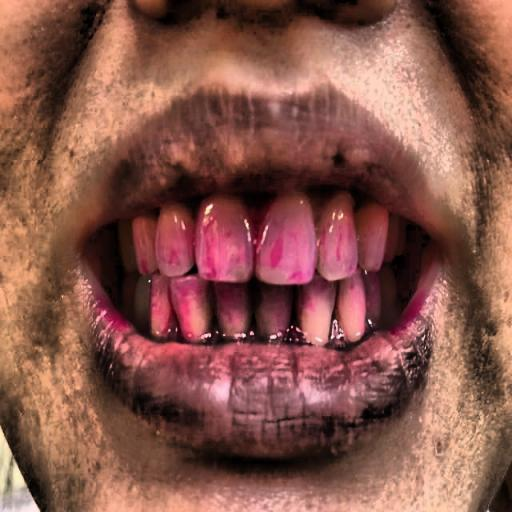Plaque: (120, 182, 406, 333)
